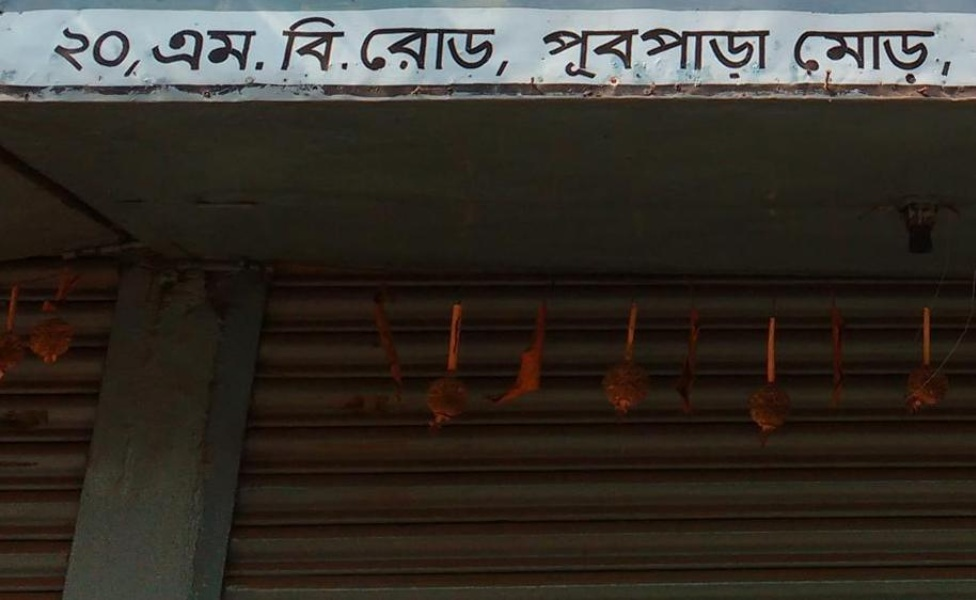text: (289, 15, 304, 71), (305, 15, 320, 71), (321, 15, 336, 71), (337, 15, 352, 71), (801, 30, 816, 85), (817, 30, 832, 85), (833, 30, 848, 85), (849, 30, 864, 85), (865, 30, 880, 85), (881, 30, 896, 85), (897, 30, 912, 85), (913, 30, 928, 85), (929, 30, 944, 85), (65, 26, 80, 80), (81, 26, 96, 80), (97, 26, 112, 80), (113, 26, 128, 80), (545, 27, 560, 78), (561, 27, 576, 78), (577, 27, 592, 78), (593, 27, 608, 78), (609, 27, 624, 78), (625, 27, 640, 78), (641, 27, 656, 78), (657, 27, 672, 78), (673, 27, 688, 78), (689, 27, 704, 78), (705, 27, 720, 78), (721, 27, 736, 78), (737, 27, 752, 78), (753, 27, 768, 78), (129, 26, 143, 80), (369, 27, 384, 77), (385, 27, 400, 77), (401, 27, 416, 77), (417, 27, 432, 77), (433, 27, 448, 77), (449, 27, 464, 77), (465, 27, 480, 77), (481, 27, 496, 77), (497, 27, 511, 77), (161, 30, 176, 71), (177, 30, 192, 71), (193, 30, 208, 71), (209, 30, 224, 71), (225, 30, 240, 71), (241, 30, 256, 71), (54, 26, 64, 80), (353, 15, 361, 71), (360, 27, 368, 77), (945, 30, 952, 85), (257, 30, 266, 71), (794, 30, 800, 85), (152, 30, 160, 71), (287, 15, 288, 71), (769, 27, 770, 78)
